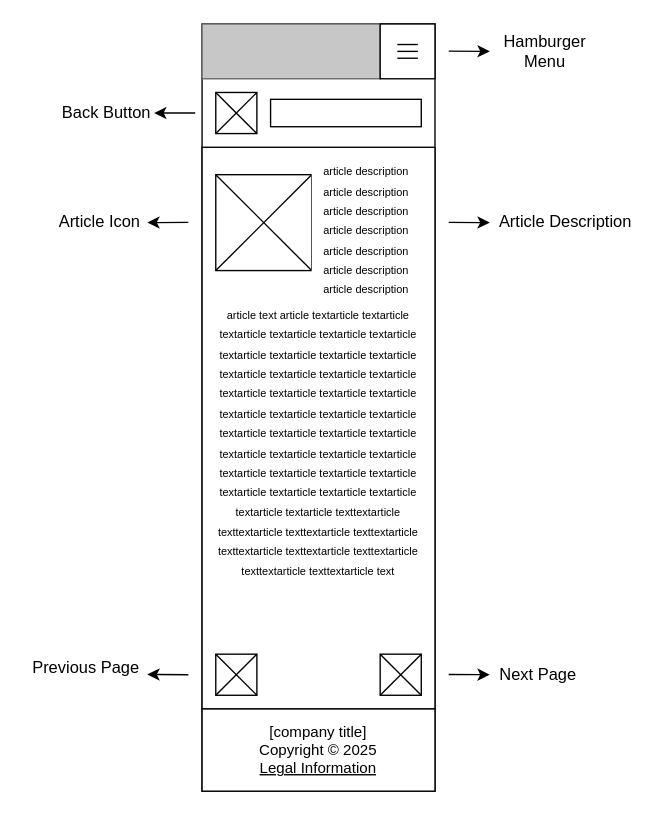
The diagram is 663 pixels wide and 815 high, and some of its shapes have lost their labels. Here are the shapes that lost their labels. From the top down, the centre of each, then its label:
At (x=290, y=51): "Logo".
At (x=345, y=112): "Article".
